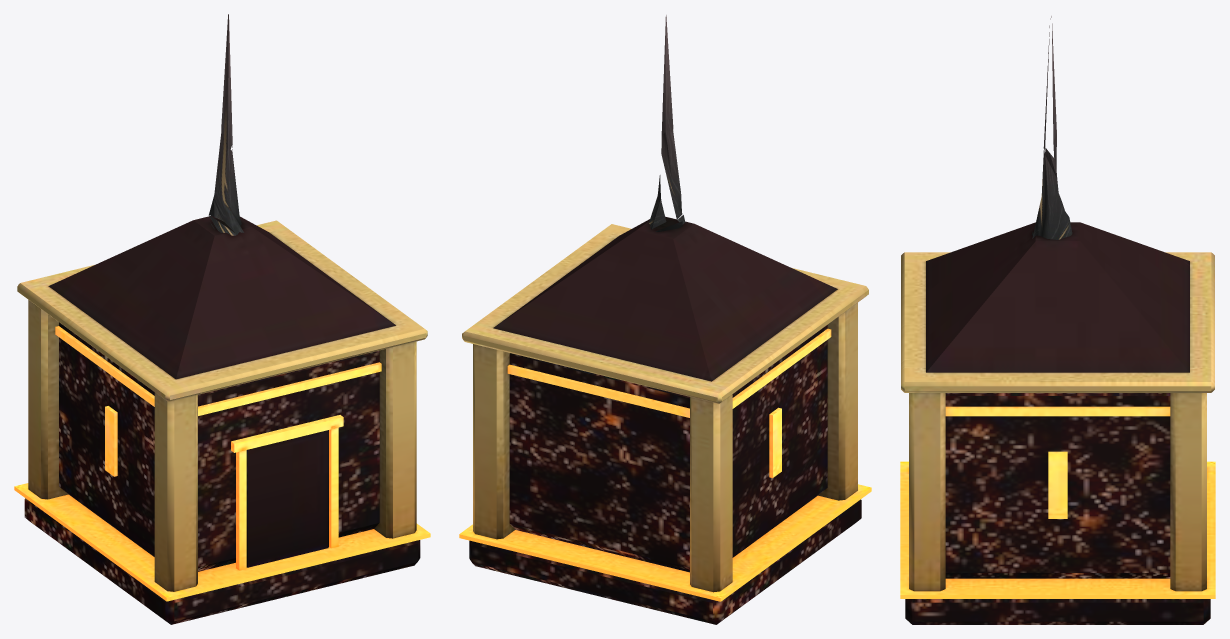
Rendered from bld1_fire.glb.
3 views of the same model, side by side, from view 1: azimuth 30°, elevation 25°; view 2: azimuth 150°, elevation 25°; view 3: azimuth 270°, elevation 25° (orthographic). The views are drawn at different scales.
Parts seen in each view (by area): view 1: bld1_fire; view 2: bld1_fire; view 3: bld1_fire.
Boxes of the visible parts, left/top/right/bottom form: bld1_fire: left=14, top=14, right=430, bottom=624; bld1_fire: left=459, top=15, right=871, bottom=624; bld1_fire: left=900, top=16, right=1215, bottom=624.
Bounding box in the file's own units: 3.62 × 6.97 × 3.62.
2 materials, 2 textured.
